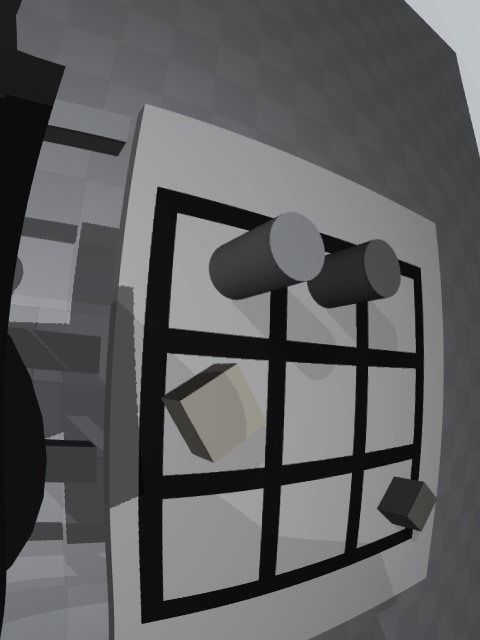can: (209, 212, 325, 300)
cube: (377, 476, 437, 532)
cylinder: (307, 239, 401, 309)
foam: (161, 363, 267, 463)
